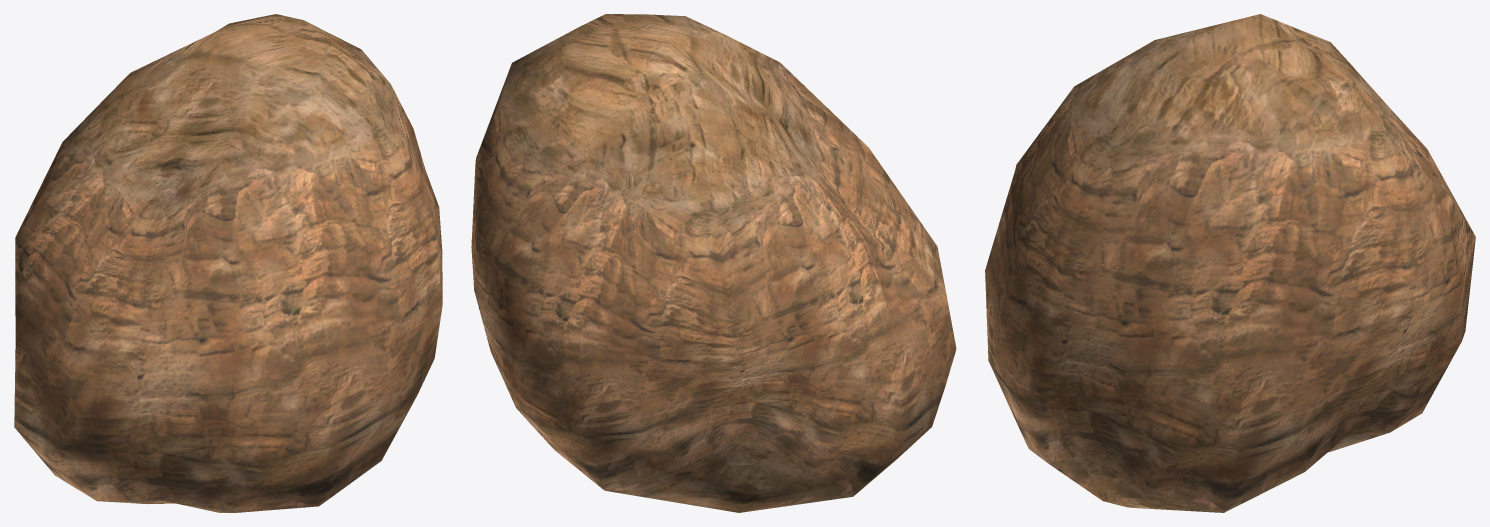
Rendered from rock_tatt_bensmesa_boulder_a1_l0.fbx.
3 views of the same model, side by side, from view 1: azimuth 30°, elevation 25°; view 2: azimuth 150°, elevation 25°; view 3: azimuth 270°, elevation 25° (orthographic). The views are drawn at different scales.
Parts seen in each view (by area): view 1: mesh_node; view 2: mesh_node; view 3: mesh_node.
Part boxes in pixels (x1,y1,x2,y2): mesh_node: (14,14,442,512); mesh_node: (471,14,956,512); mesh_node: (985,14,1475,512).
Bounding box in the file's own units: 3.59 × 3.68 × 3.54.
